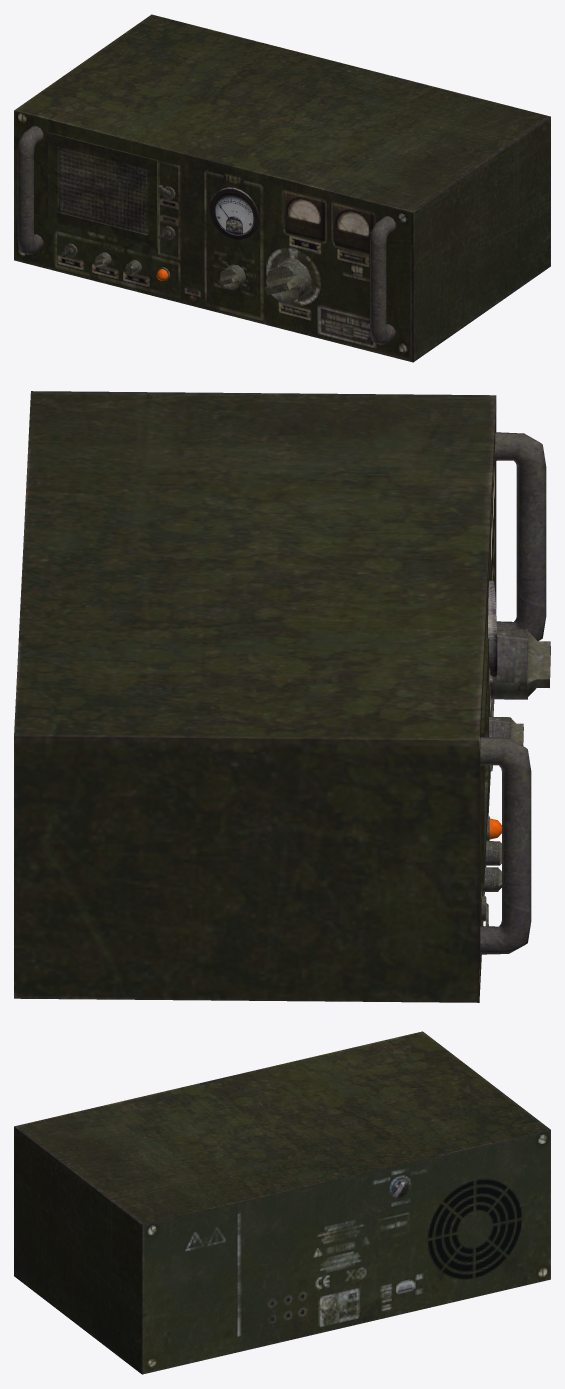
The model's file is TransmitterRadio.FBX.
3 views of the same model, one above another, from view 1: azimuth 30°, elevation 25°; view 2: azimuth 150°, elevation 25°; view 3: azimuth 270°, elevation 25° (orthographic). The views are drawn at different scales.
Parts seen in each view (by area): view 1: TransmitterRadio; view 2: TransmitterRadio; view 3: TransmitterRadio.
Boxes of the visible parts, x1,y1,x2,y2 form: TransmitterRadio: (14,14,550,362); TransmitterRadio: (14,391,550,1002); TransmitterRadio: (14,1031,550,1374).
Bounding box in the file's own units: 0.7425 × 0.2602 × 0.8454.
